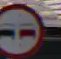No overtake: (0, 5, 46, 57)
